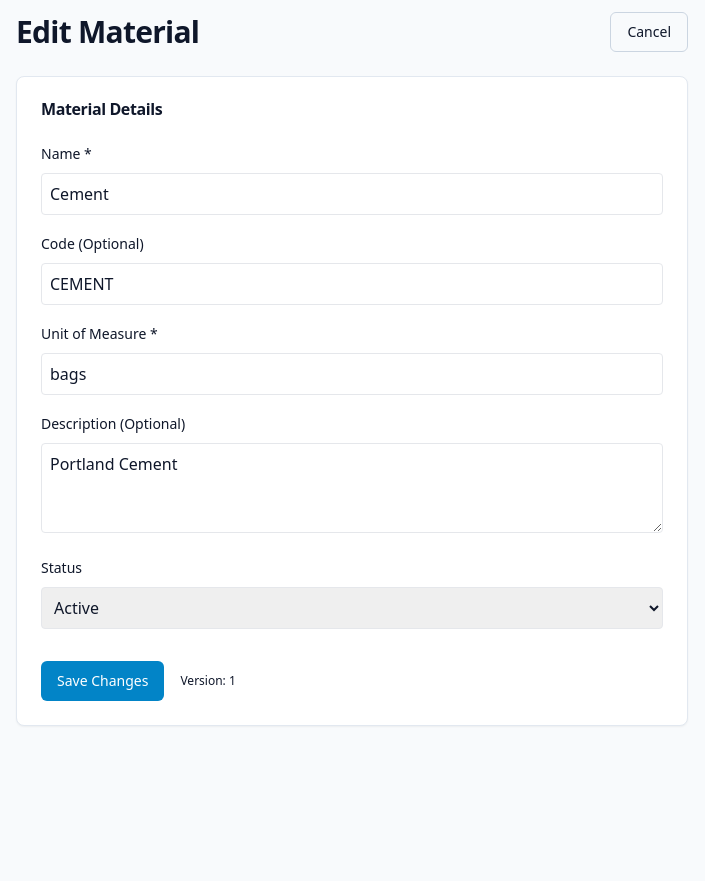
it: Materials Web Module › Edit Material (/materials/[id]/edit) › should show conflict error on stale version
This screenshot has width=705, height=881.
Expected: the field showing "Cement" is shown, [41,173,663,215]
Click the button "Save Changes": (103, 681) [41,661,164,701]
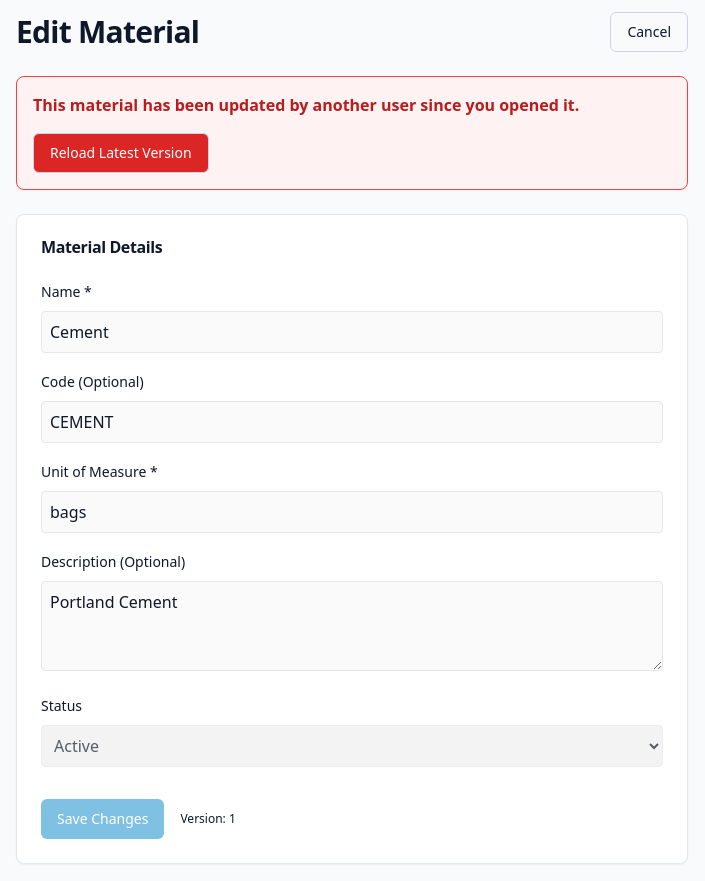
Expected: the text "updated by another user since you opened it" is shown, [33,94,579,116]
